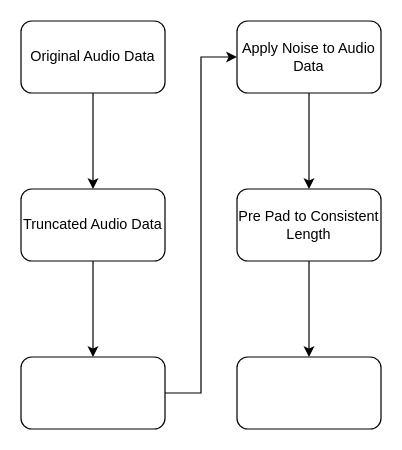
Some shapes in this 402 by 450 pixel diagram are drawn without their labels. The centre of each missing label's shape, as x and y in pixels:
"Normalised Audio Data" goes at [92,392].
"Transform to Mel-Spectrogram" goes at [308,392].
